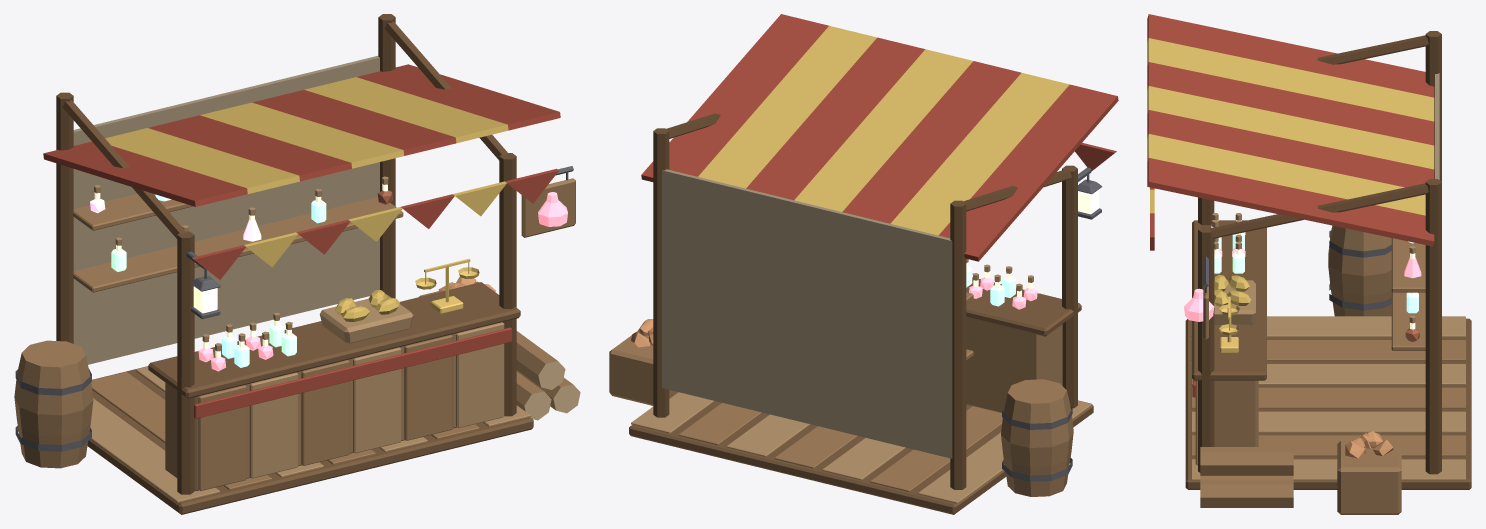
The model's file is stall_goods.glb.
The picture shows the model from 3 angles, left to right: view 1: azimuth 30°, elevation 25°; view 2: azimuth 150°, elevation 25°; view 3: azimuth 270°, elevation 25°; orthographic projection. The views are drawn at different scales.
Parts seen in each view (by area): view 1: Stall; view 2: Stall; view 3: Stall.
Boxes of the visible parts, x1=… form: Stall: x1=14, y1=14, x2=580, y2=514; Stall: x1=609, y1=14, x2=1118, y2=514; Stall: x1=1147, y1=14, x2=1471, y2=514.
Bounding box in the file's own units: 4.47 × 2.95 × 2.78.
